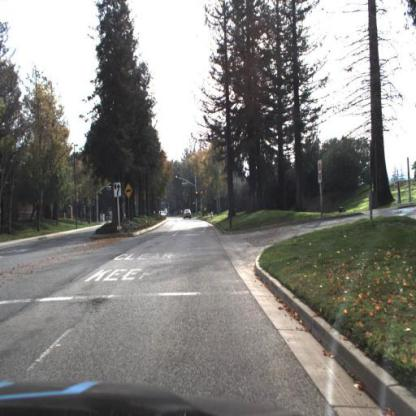car: (184, 207, 193, 220)
